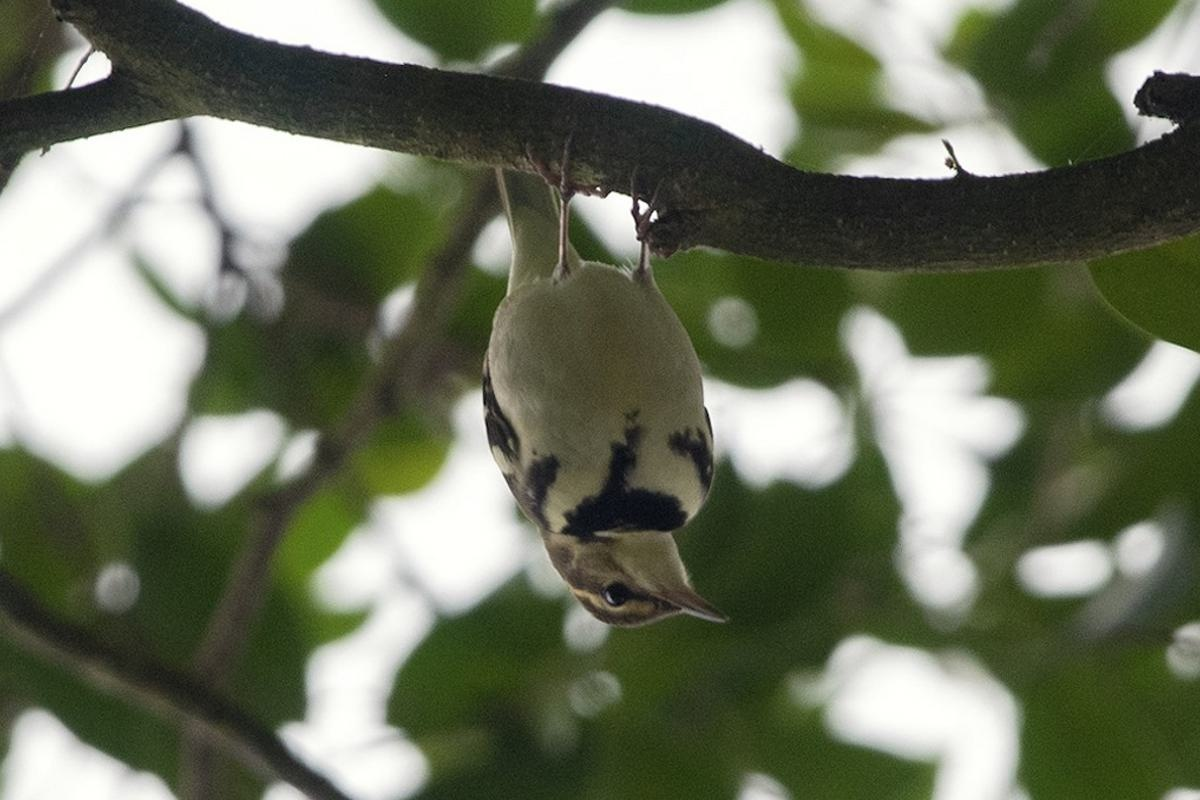wagtail: (464, 140, 768, 644)
